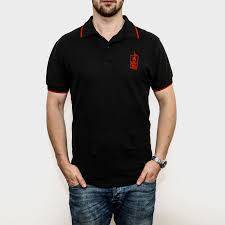S_polo shirt: (39, 13, 175, 183)
